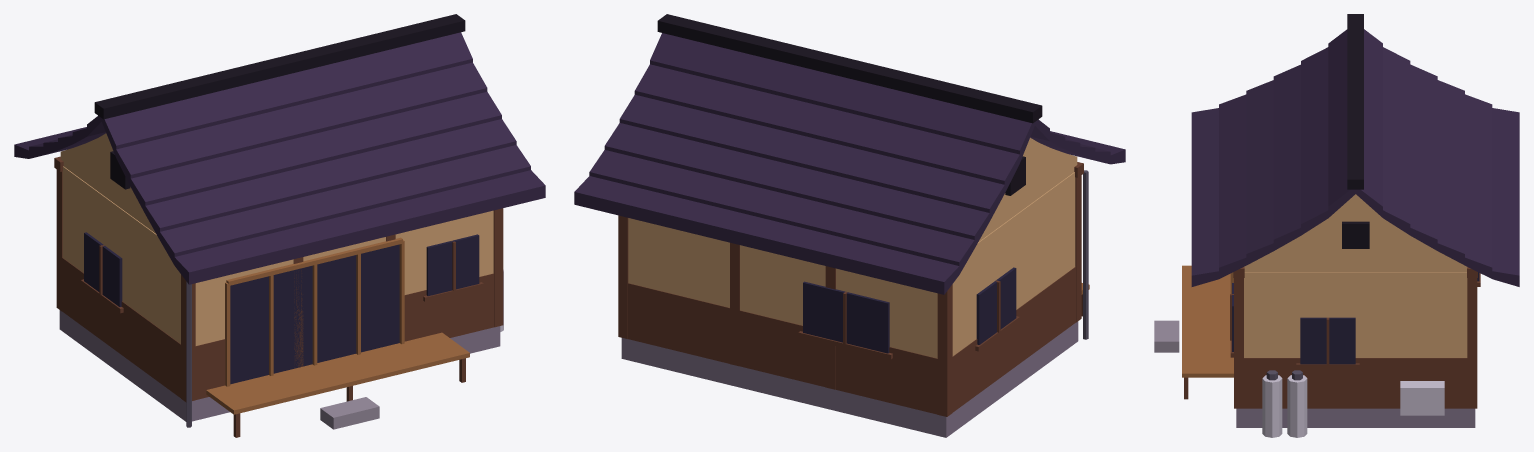
The model's file is house_0.glb.
3 renders of one model, left to right at view 1: azimuth 30°, elevation 25°; view 2: azimuth 150°, elevation 25°; view 3: azimuth 270°, elevation 25°, orthographic. The views are drawn at different scales.
Visible parts, largest first — view 1: house_0; view 2: house_0; view 3: house_0.
Boxes of the visible parts, left/top/right/bottom form: house_0: left=14, top=14, right=545, bottom=437; house_0: left=574, top=14, right=1125, bottom=437; house_0: left=1154, top=14, right=1519, bottom=437.
Size of the model in its own units: 7.05 by 5.15 by 6.58.
